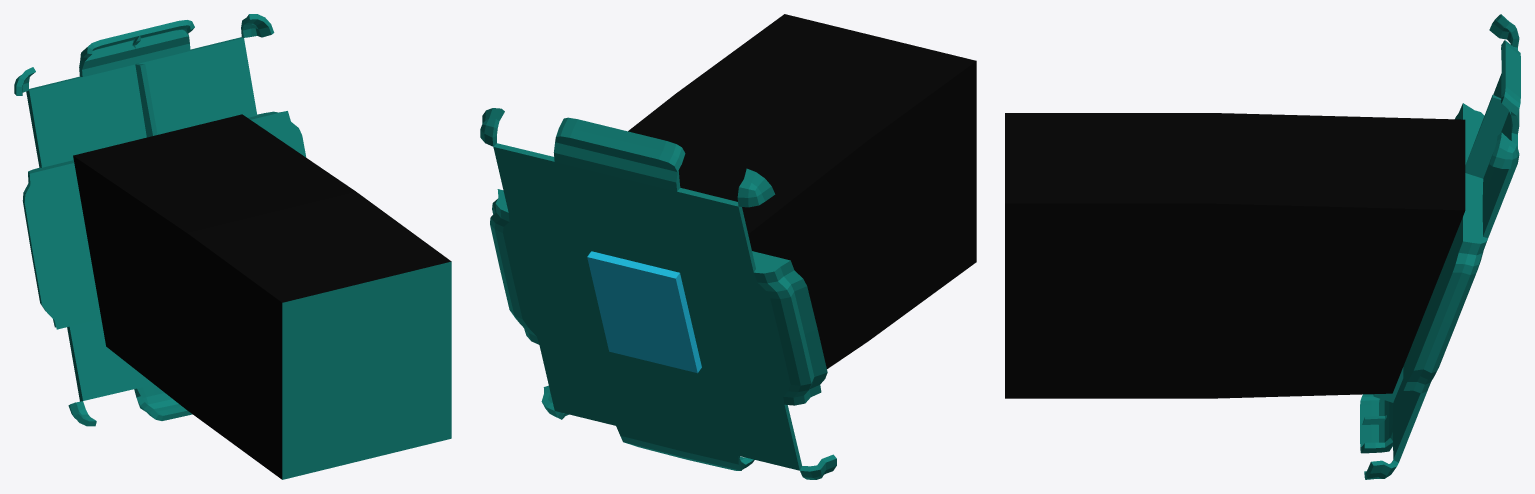
Rendered from CPU-Upgrade2.fbx.
3 renders of one model, left to right at view 1: azimuth 30°, elevation 25°; view 2: azimuth 150°, elevation 25°; view 3: azimuth 270°, elevation 25°, orthographic. The views are drawn at different scales.
Visible parts, largest first — view 1: Cpu3; view 2: Cpu3; view 3: Cpu3.
Part boxes in pixels (x1,y1,x2,y2): Cpu3: [14, 14, 451, 479]; Cpu3: [480, 14, 976, 479]; Cpu3: [1005, 14, 1520, 479].
Bounding box in the file's own units: 329 × 376 × 480.
